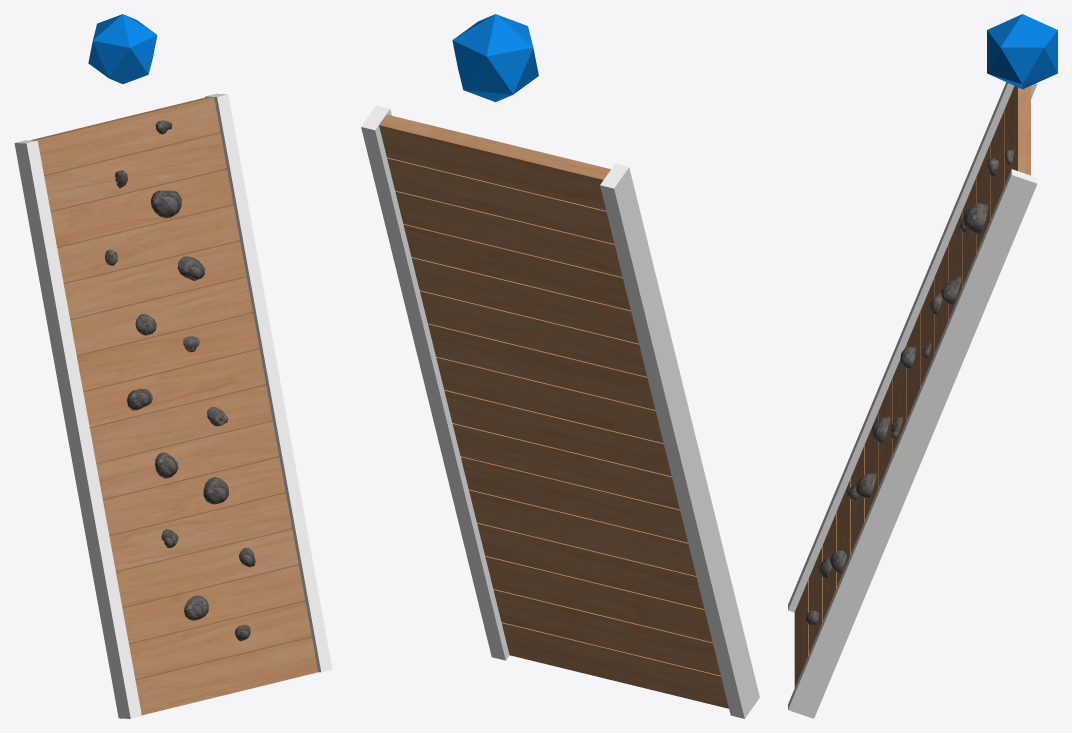
Rendered from Poly rock climb.glb.
The picture shows the model from 3 angles, left to right: view 1: azimuth 30°, elevation 25°; view 2: azimuth 150°, elevation 25°; view 3: azimuth 270°, elevation 25°; orthographic projection. The views are drawn at different scales.
Visible parts, largest first — view 1: Cube.119, Joint.002; view 2: Cube.119, Joint.002; view 3: Cube.119, Joint.002.
Part boxes in pixels (x1,y1,x2,y2): Cube.119: (14, 93, 332, 718); Joint.002: (88, 14, 157, 84); Cube.119: (361, 105, 759, 718); Joint.002: (452, 14, 538, 102); Cube.119: (788, 82, 1037, 718); Joint.002: (987, 14, 1057, 89).
Size of the model in its own units: 0.9144 by 2.64 by 0.9879.
Materials: 4 (2 with a texture image).
